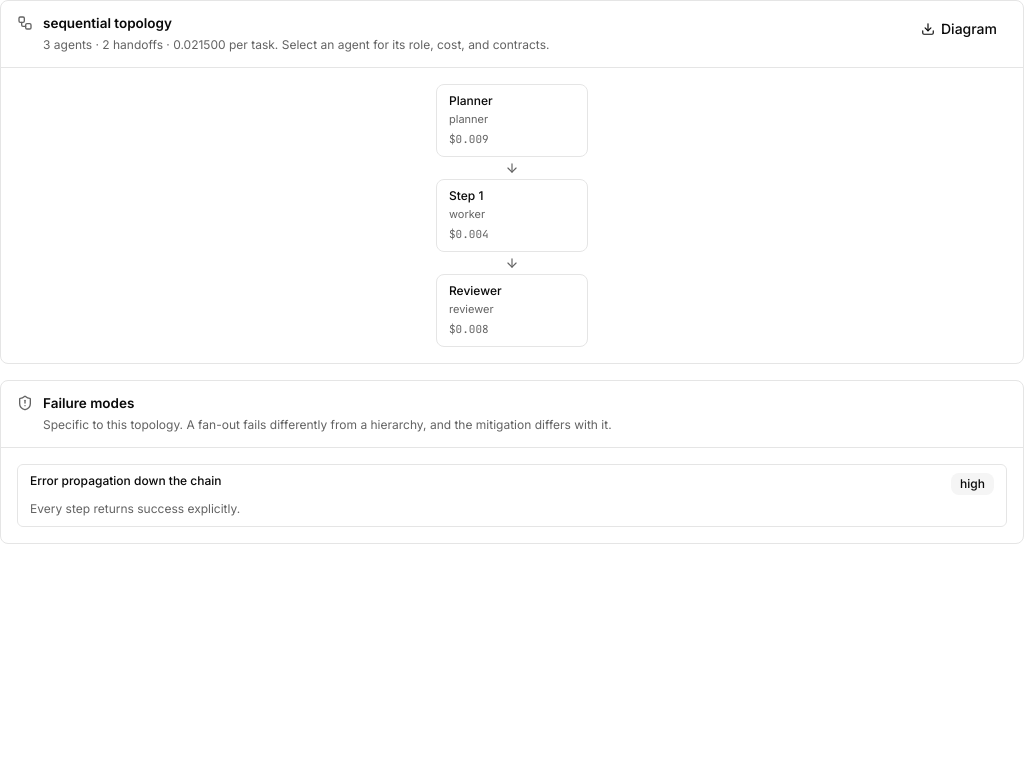
Test: WorkflowDag › closes the detail again when the same node is clicked
Click the button "Reviewer reviewer $0.008" at x=512, y=310, box x1=436 y1=274 x2=588 y2=347
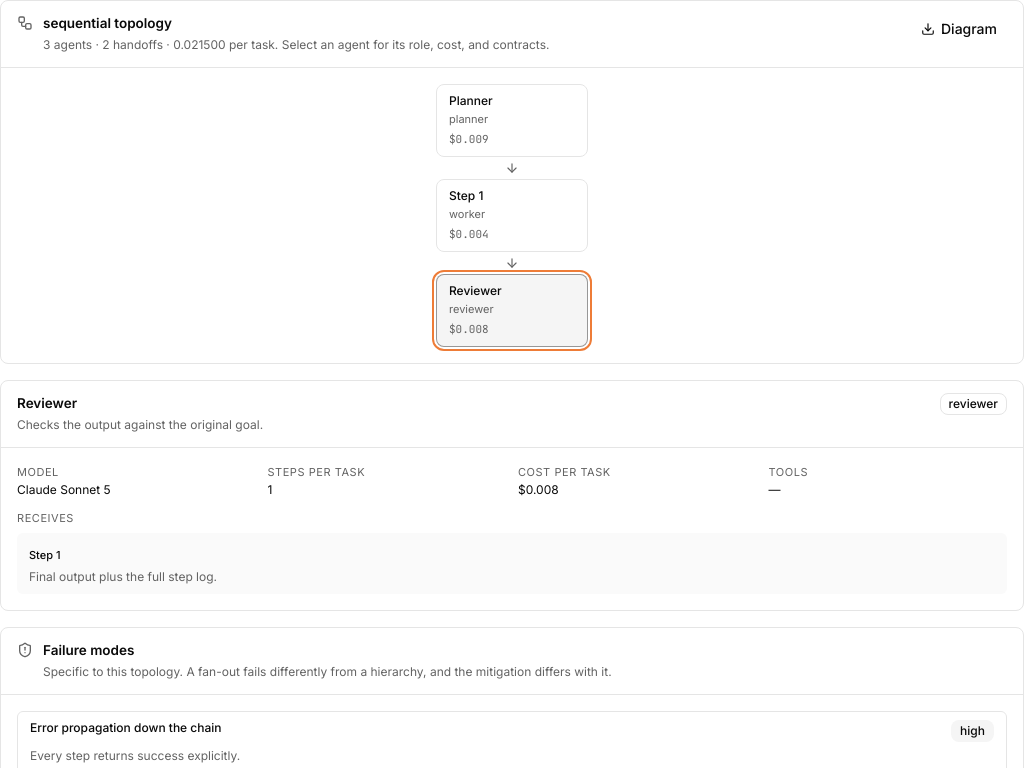
Expected: the text "Checks the output against the original goal." is shown, x1=17 y1=415 x2=263 y2=434
Click the button "Reviewer reviewer $0.008" at x=512, y=310, box x1=436 y1=274 x2=588 y2=347
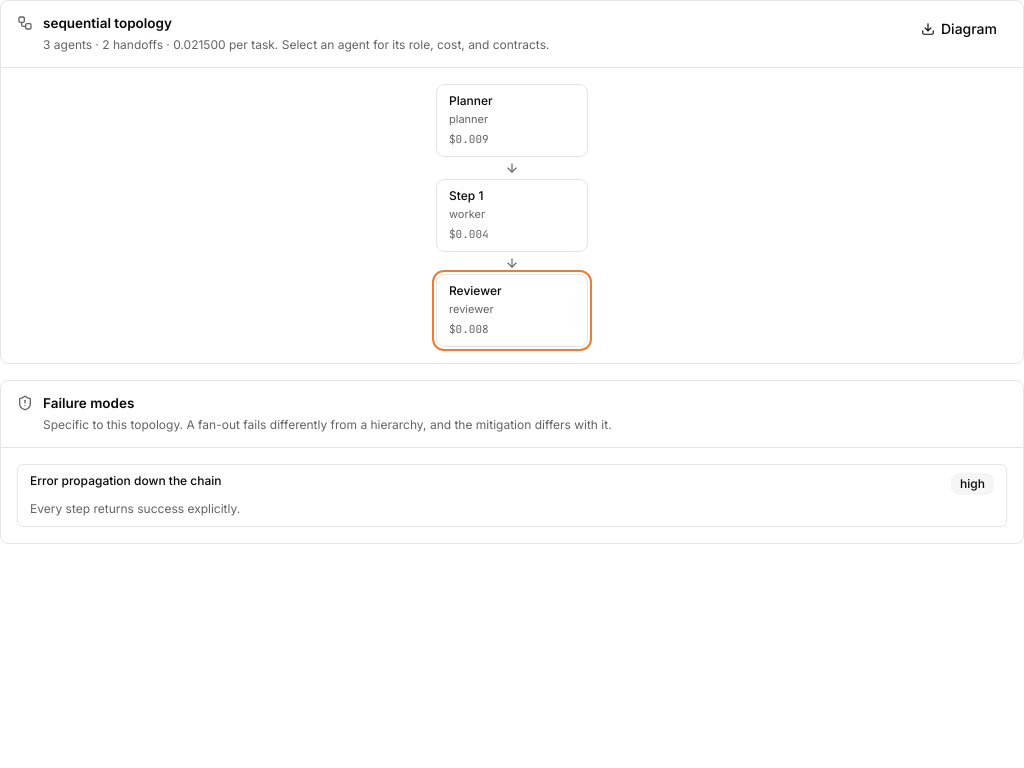
Expected: the text "Checks the output against the original goal" is gone
